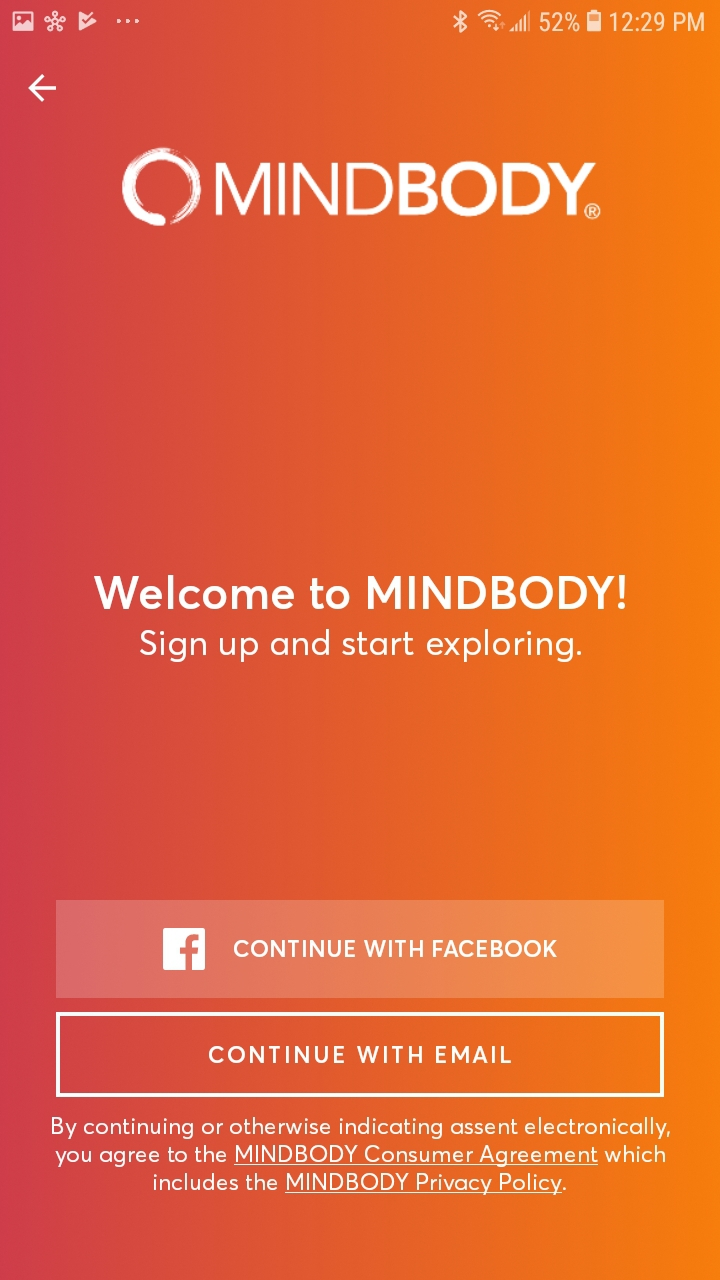Icon: (28, 74, 58, 103)
Image: (121, 148, 602, 229)
Text: (52, 1116, 670, 1195), (94, 575, 627, 611), (140, 629, 582, 664)
TextButton: (57, 900, 665, 999), (56, 1011, 665, 1098)
UpperTaskBar: (1, 2, 720, 35)
